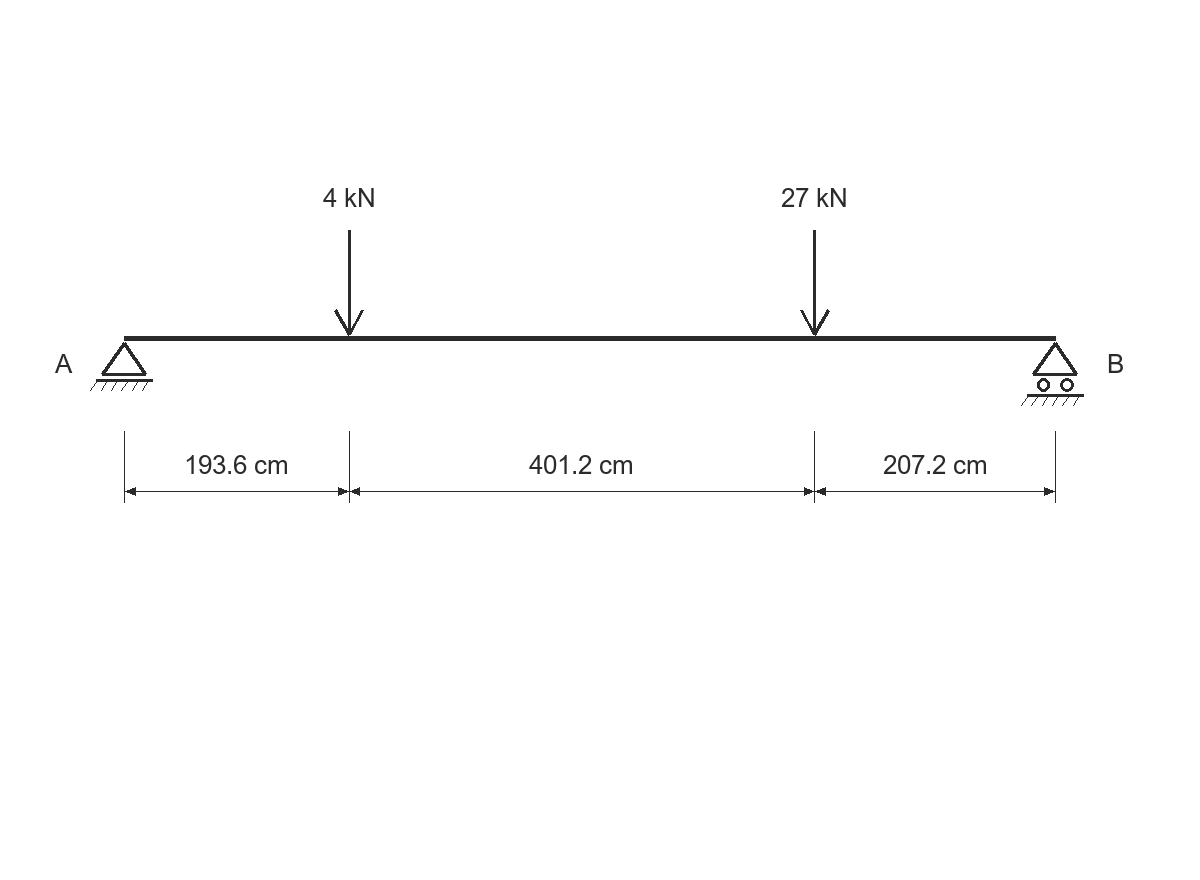pin_support: (90, 342, 153, 391)
point_load: (334, 230, 364, 336), (800, 230, 830, 336)
roller_support: (1021, 342, 1084, 406)
